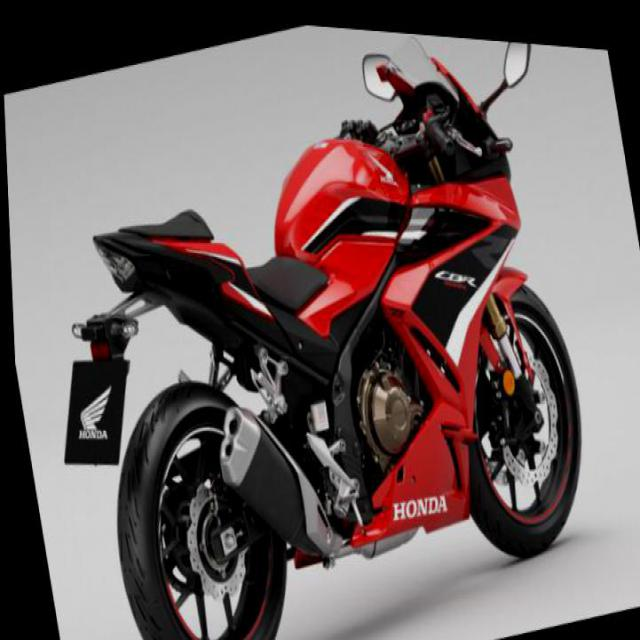CBR500R: (4, 0, 622, 639)
